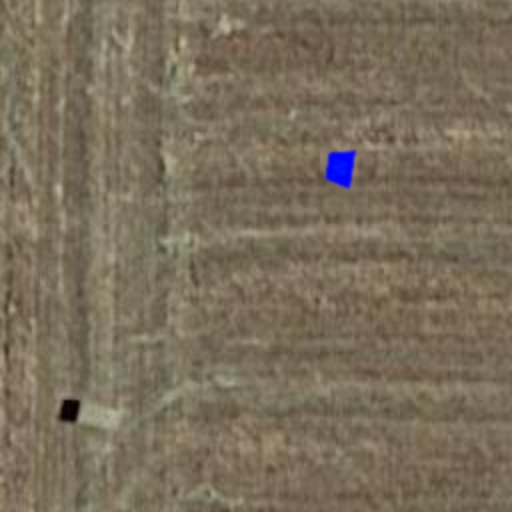trapezoid: (316, 144, 364, 192)
